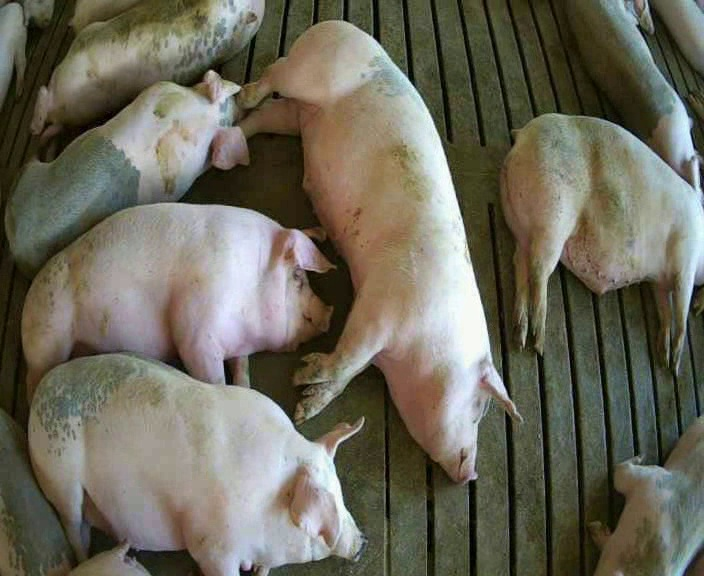pig: (240, 21, 519, 483), (29, 354, 364, 574), (22, 203, 332, 393), (500, 114, 703, 371), (6, 71, 248, 276), (31, 2, 264, 137), (567, 2, 700, 193), (586, 416, 703, 574)
